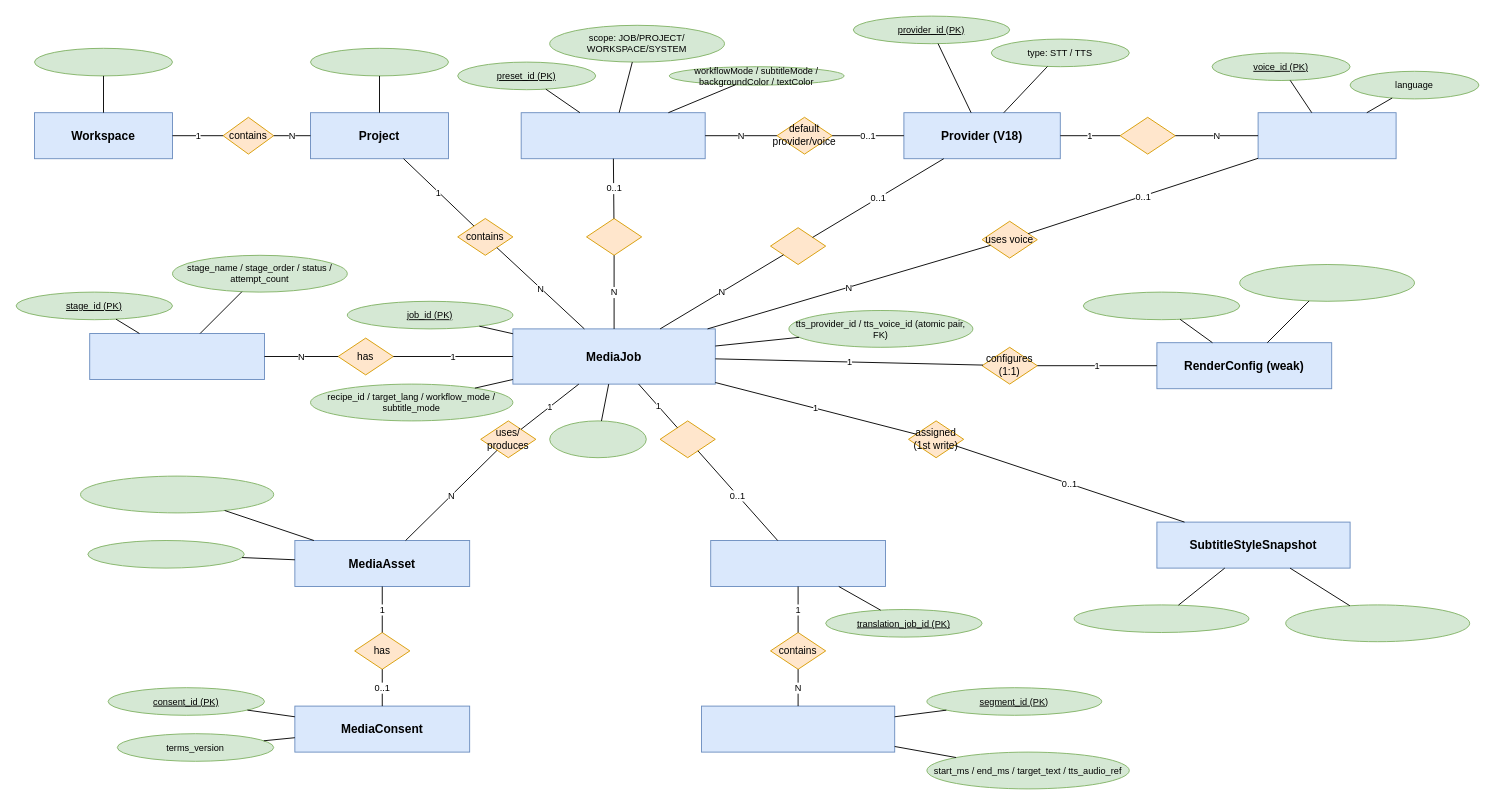
This 1495x805 diagram has some shape labels left out. The shapes that lost their labels are listed below. From the top down, each one's box as (x1, y1, x2, y2) in pixels, then its label:
(34, 47, 172, 76): workspace_id (PK)
(310, 47, 448, 76): project_id (PK)
(520, 112, 705, 159): WorkflowPreset
(1119, 116, 1175, 154): belongs to
(1257, 112, 1396, 159): Voice
(586, 218, 642, 255): resolved from (freeze)
(770, 227, 826, 264): uses TTS
(1239, 264, 1414, 301): confirmed / position / mask / colors / layers[]
(1082, 291, 1240, 320): job_id (PK/FK)
(89, 333, 264, 380): MediaJobStage
(549, 420, 646, 458): strategy_snapshot
(659, 420, 715, 458): creates
(80, 475, 274, 513): asset_type (SOURCE/AUDIO/ RENDERED_VIDEO) / analysis jsonb
(87, 540, 244, 568): asset_id (PK)
(710, 540, 886, 586): TranslationJob
(1073, 604, 1249, 632): style_id (PK)
(1285, 604, 1470, 642): 13 fields: font, color, outline, bg #RRGGBBAA
(701, 705, 895, 752): TranslationSegment
